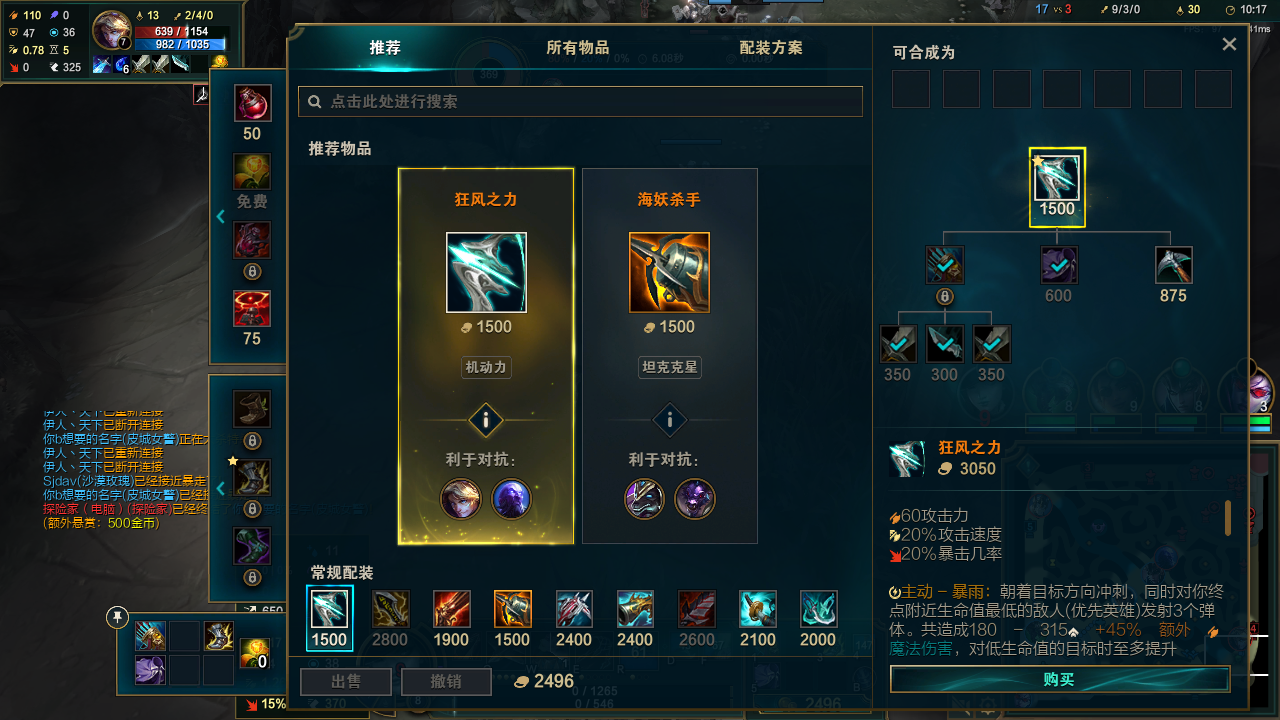GTH: (618, 385, 713, 444)
TJJM: (335, 38, 422, 79)
